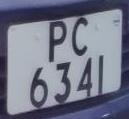1: (94, 50, 110, 101)
3: (51, 58, 76, 106)
4: (74, 57, 96, 99)
6: (26, 63, 54, 110)
C: (68, 14, 90, 59)
P: (46, 18, 70, 62)
